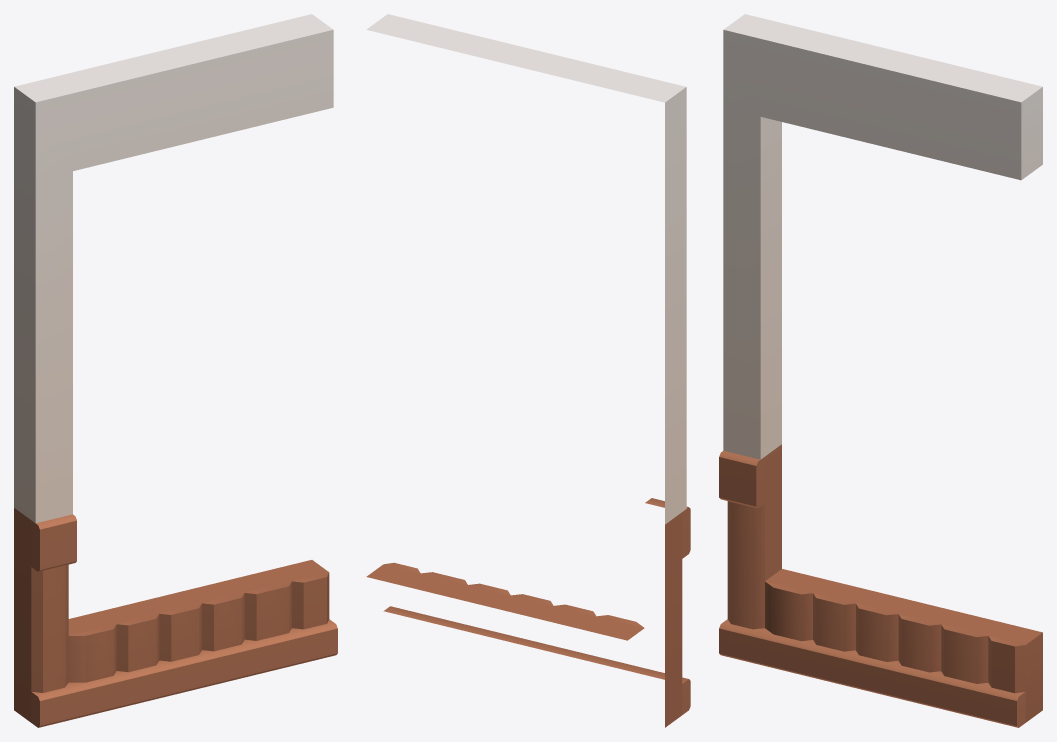
The model's file is wall-modular-panelled-bakery-window-full-left-a.glb.
The picture shows the model from 3 angles, left to right: view 1: azimuth 30°, elevation 25°; view 2: azimuth 150°, elevation 25°; view 3: azimuth 330°, elevation 25°; orthographic projection.
Visible parts, largest first — view 1: wall_modular_panelled_bakery_window_full_left_A; view 2: wall_modular_panelled_bakery_window_full_left_A; view 3: wall_modular_panelled_bakery_window_full_left_A.
Boxes of the visible parts, <box> form: wall_modular_panelled_bakery_window_full_left_A: <box>14,14,337,727</box>; wall_modular_panelled_bakery_window_full_left_A: <box>366,14,690,727</box>; wall_modular_panelled_bakery_window_full_left_A: <box>719,14,1042,727</box>.
Bounding box in the file's own units: 2 × 4 × 0.3.
1 material, 1 textured.
